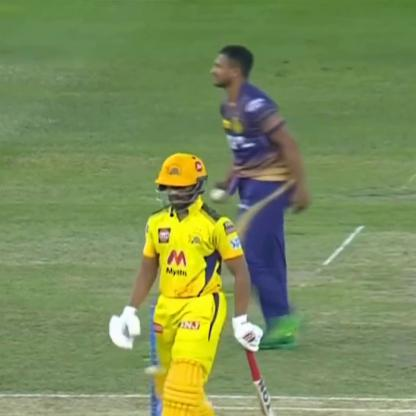ball: (207, 180, 226, 202)
